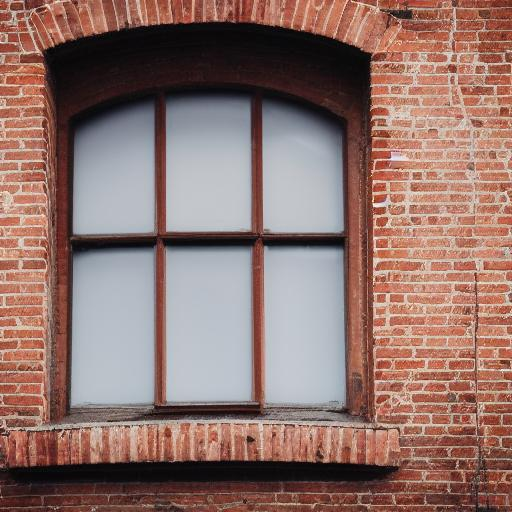Window: (1, 5, 406, 477)
